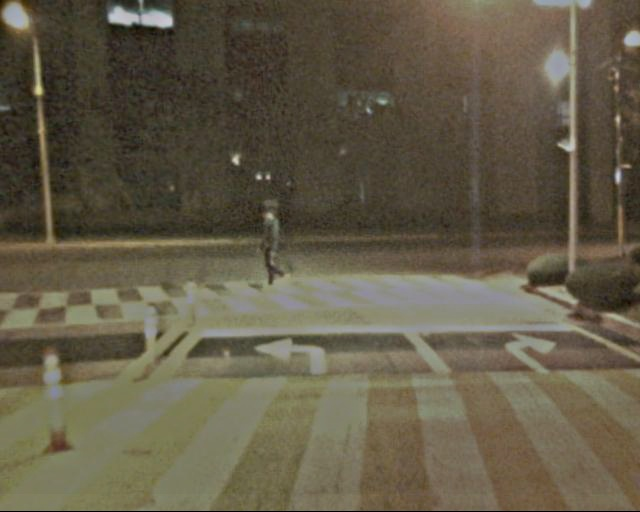person: (251, 204, 289, 296)
